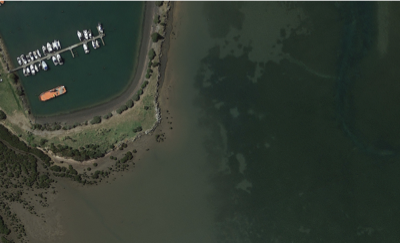boat: (38, 85, 67, 102), (52, 39, 62, 51), (98, 21, 105, 35), (47, 42, 54, 54), (57, 53, 64, 65), (77, 30, 84, 41), (42, 60, 49, 71), (83, 28, 89, 40), (30, 63, 36, 75), (21, 54, 27, 65), (83, 43, 89, 53), (53, 55, 59, 65), (42, 45, 48, 55), (29, 51, 34, 61), (96, 39, 101, 48), (92, 40, 97, 49), (17, 56, 22, 65), (37, 49, 42, 57), (33, 51, 38, 59), (88, 30, 92, 39), (26, 55, 31, 62), (35, 63, 39, 71), (27, 67, 31, 75), (23, 68, 27, 76), (39, 63, 43, 69), (47, 57, 51, 60)
